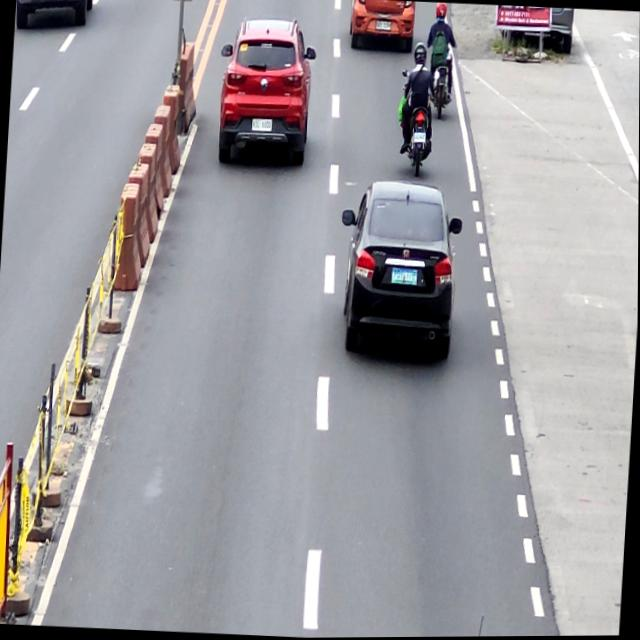Car: (337, 180, 465, 363), (214, 16, 318, 171), (349, 0, 417, 52)
License-Plate: (391, 269, 418, 287), (252, 119, 273, 132), (376, 20, 392, 31), (414, 132, 426, 143)
Motorcycle: (396, 68, 437, 181), (426, 30, 456, 121)
